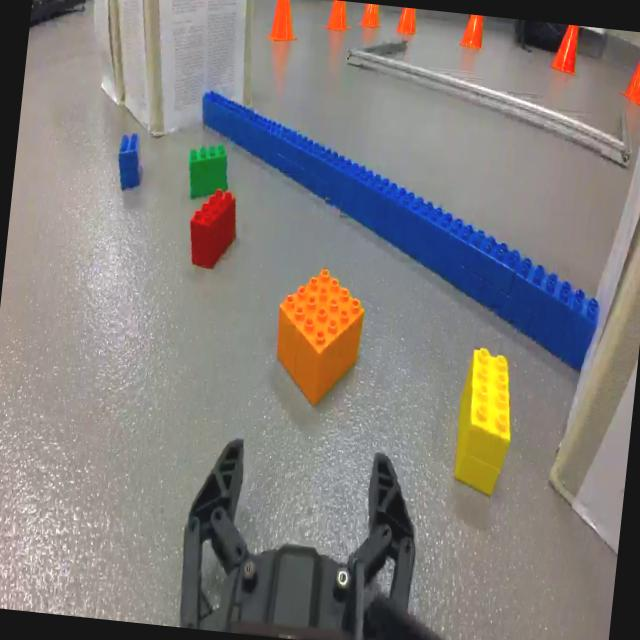block: (447, 334, 523, 508)
blue: (112, 128, 144, 196)
cone: (548, 22, 584, 76), (266, 0, 301, 50), (619, 39, 640, 109)
green: (185, 139, 238, 195)
orange: (266, 256, 370, 417)
red goal: (184, 186, 246, 274)
river: (202, 89, 597, 370)
storage cube: (121, 0, 251, 136), (78, 0, 134, 112)
